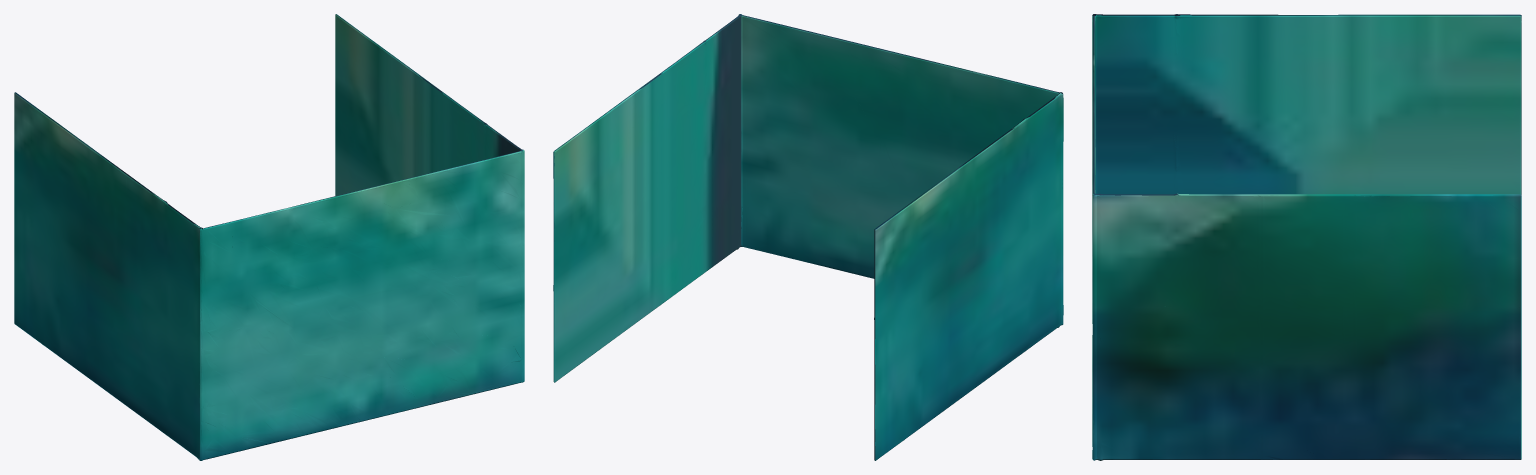
Rendered from rubble_obsidian.glb.
3 views of the same model, side by side, from view 1: azimuth 30°, elevation 25°; view 2: azimuth 150°, elevation 25°; view 3: azimuth 270°, elevation 25° (orthographic). The views are drawn at different scales.
Parts seen in each view (by area): view 1: rubble_obsidian; view 2: rubble_obsidian; view 3: rubble_obsidian.
Part boxes in pixels (left/top/right/bottom): rubble_obsidian: left=14, top=14, right=524, bottom=460; rubble_obsidian: left=553, top=14, right=1063, bottom=460; rubble_obsidian: left=1092, top=14, right=1521, bottom=460.
Bounding box in the file's own units: 2 × 1.37 × 2.
Materials: 1 (1 with a texture image).
